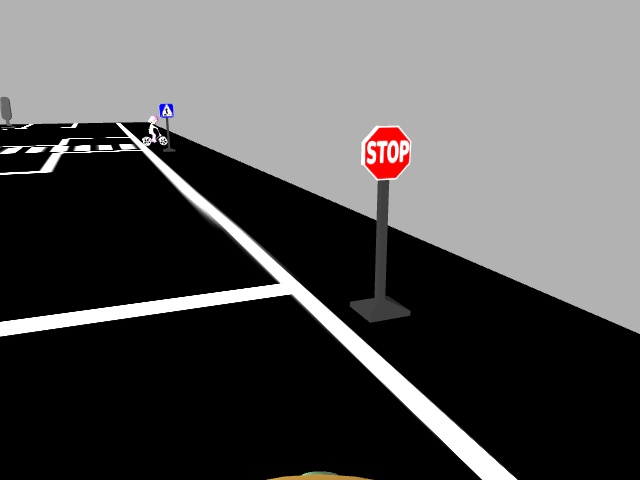Stop: (356, 121, 415, 181)
